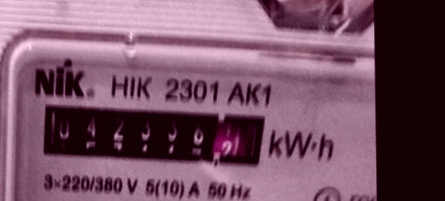0: (57, 111, 71, 141)
2: (109, 113, 128, 140)
3: (136, 112, 153, 141), (165, 113, 180, 141)
4: (83, 112, 100, 139)
6: (190, 118, 206, 146)
screen: (32, 91, 273, 176)
